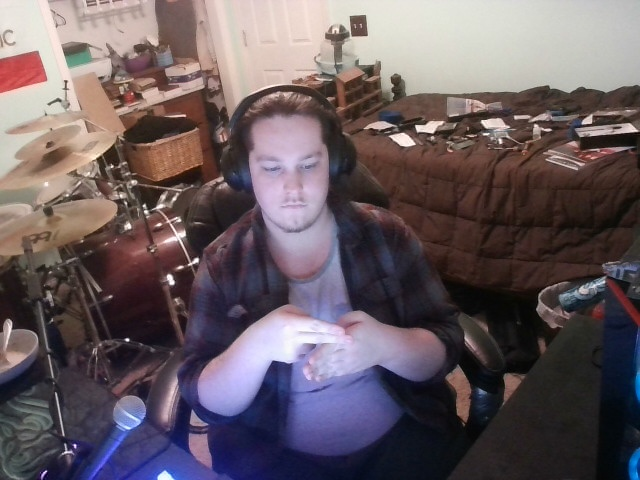name: (243, 290, 384, 402)
